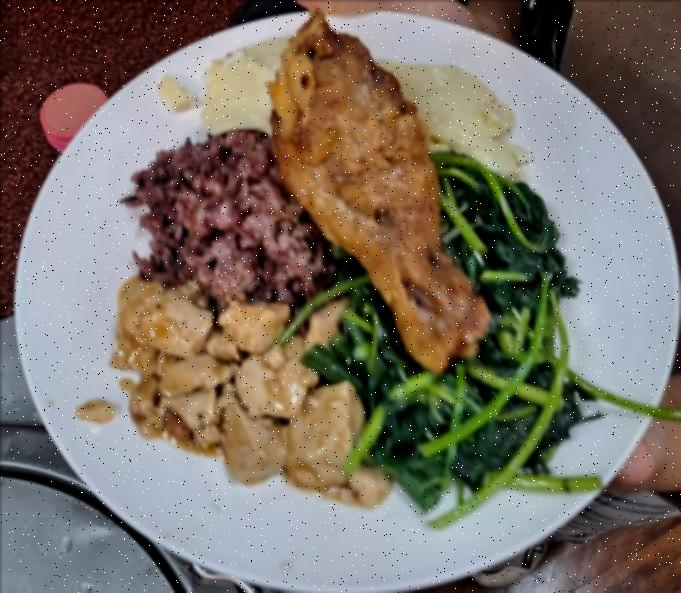big fried chicken leg: (0, 10, 677, 593)
braised fish: (132, 132, 322, 308)
braised fish fillet: (330, 162, 578, 511), (117, 278, 384, 509), (186, 41, 524, 172)
braised pork: (263, 11, 485, 372)
